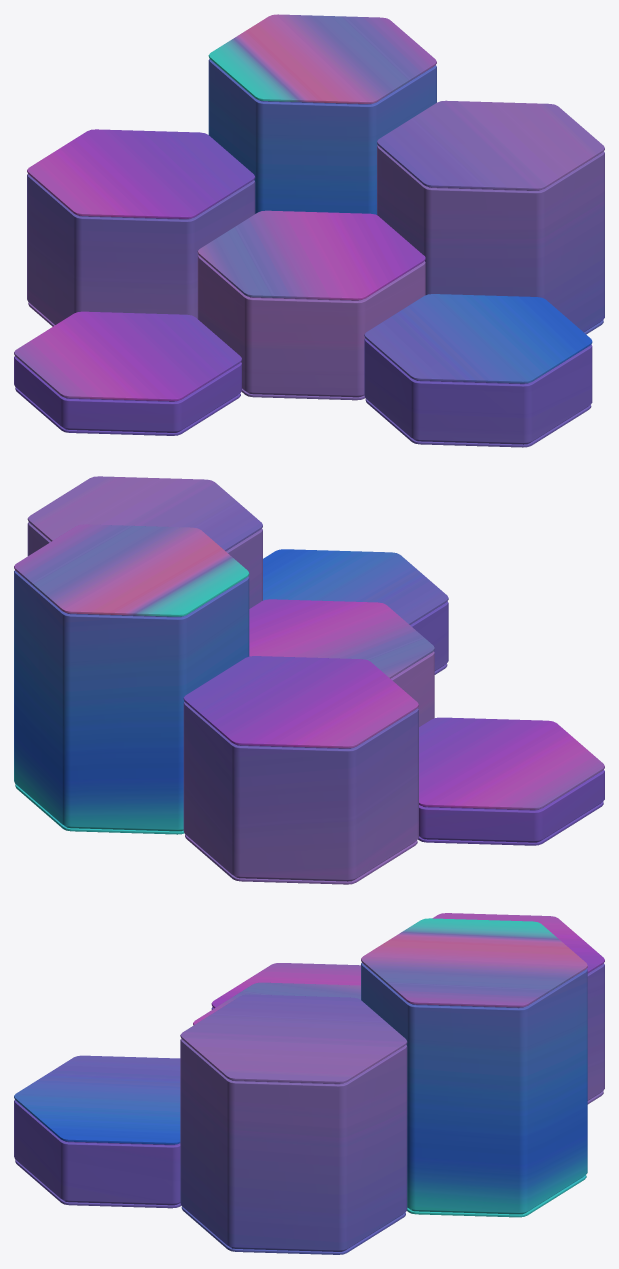
Rendered from podium.gltf.
3 renders of one model, top to bottom at view 1: azimuth 30°, elevation 25°; view 2: azimuth 150°, elevation 25°; view 3: azimuth 270°, elevation 25°, orthographic. The views are drawn at different scales.
Visible parts, largest first — view 1: hexagonal_display_structure_1411; view 2: hexagonal_display_structure_1411; view 3: hexagonal_display_structure_1411.
Part boxes in pixels (<box>): hexagonal_display_structure_1411: <box>14,14,604,447</box>; hexagonal_display_structure_1411: <box>14,476,604,884</box>; hexagonal_display_structure_1411: <box>14,913,604,1254</box>.
Bounding box in the file's own units: 1.47 × 0.5684 × 1.43.
Materials: 1 (1 with a texture image).
